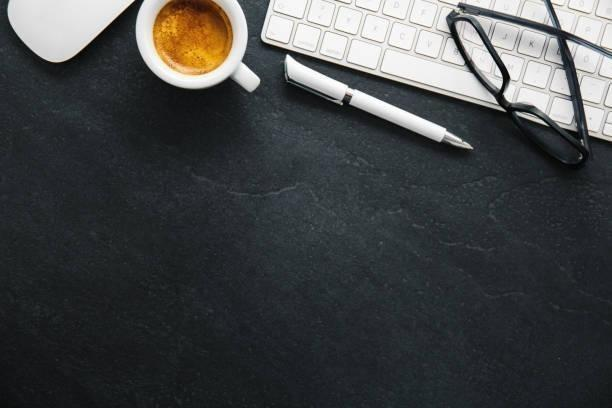cup-handle: (134, 0, 261, 95)
